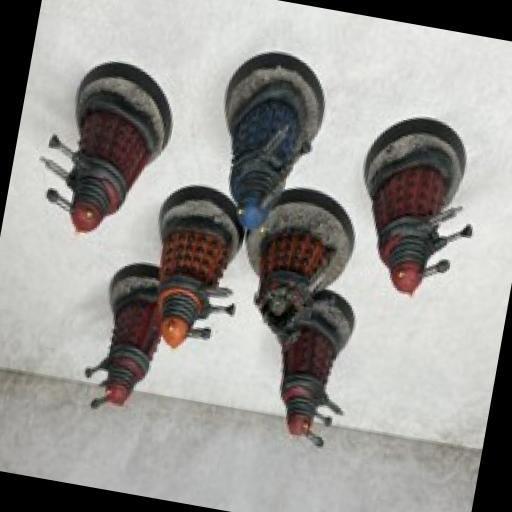dalek: (347, 139, 490, 307), (28, 80, 164, 244), (208, 77, 326, 241), (136, 208, 256, 362), (251, 311, 355, 458), (77, 283, 170, 420), (244, 226, 342, 356)
